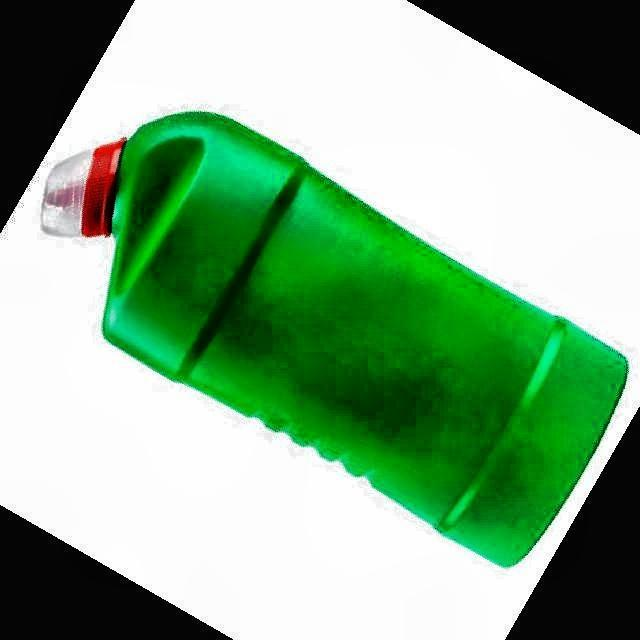plastic: (42, 112, 628, 566)
